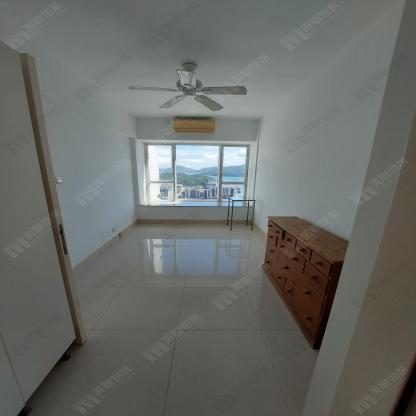AC: (173, 119, 215, 133)
Cupboard: (260, 216, 350, 351)
